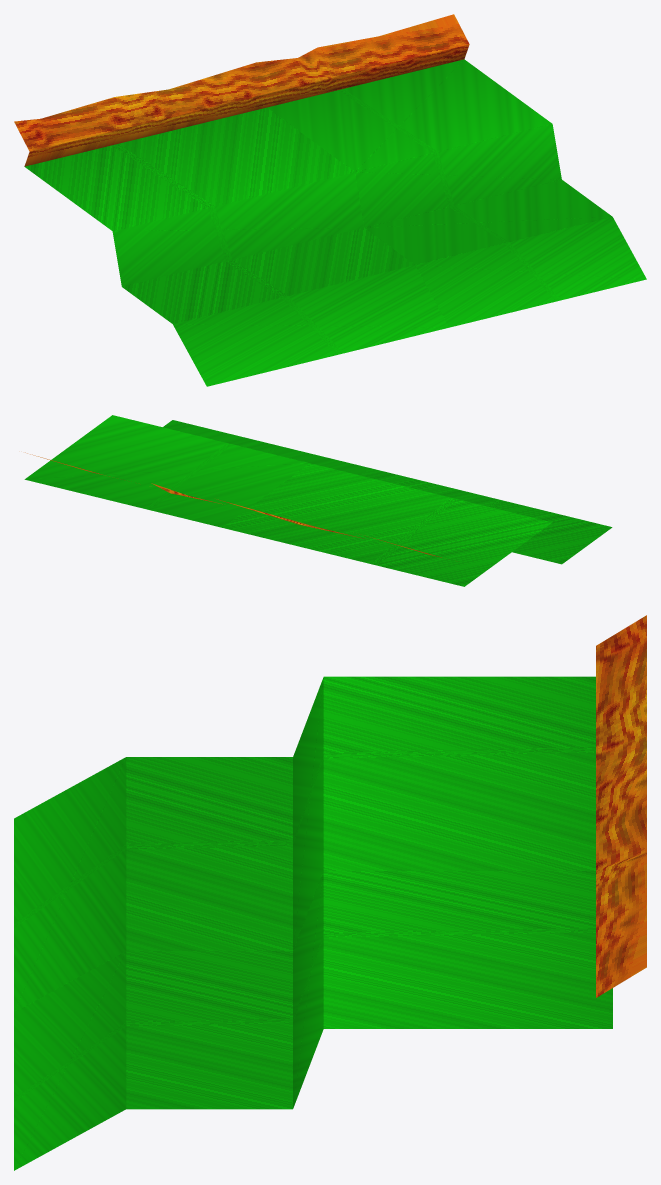
File: CharSel.glb
The picture shows the model from 3 angles, top to bottom: view 1: azimuth 30°, elevation 25°; view 2: azimuth 150°, elevation 25°; view 3: azimuth 270°, elevation 25°; orthographic projection. The views are drawn at different scales.
Visible parts, largest first — view 1: CharSel_1, CharSel_0; view 2: CharSel_1, CharSel_0; view 3: CharSel_1, CharSel_0.
Part boxes in pixels (x1,y1,x2,y2): CharSel_1: [24, 59, 646, 386]; CharSel_0: [14, 14, 469, 166]; CharSel_1: [24, 415, 612, 586]; CharSel_0: [25, 452, 441, 557]; CharSel_1: [14, 676, 612, 1170]; CharSel_0: [596, 615, 646, 997].
Size of the model in its own units: 30.62 by 8.25 by 23.25.
2 materials, 2 textured.
